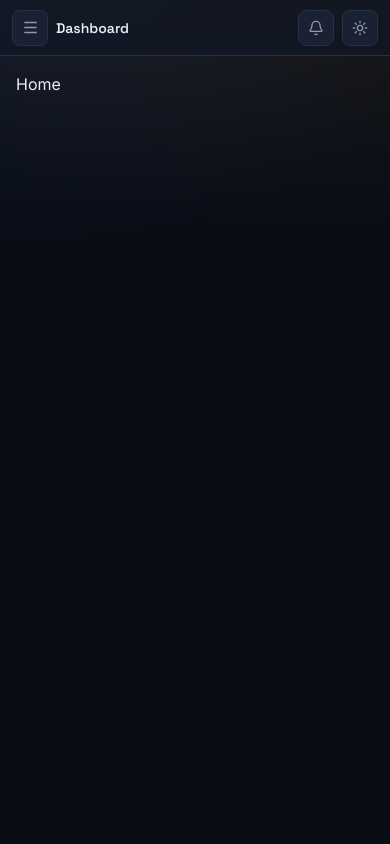
Test: mobile menu › closes after choosing a page and shows that page
The image size is (390, 844).
Click the button named "Open menu".
click(30, 28)  # box [12, 10, 48, 46]
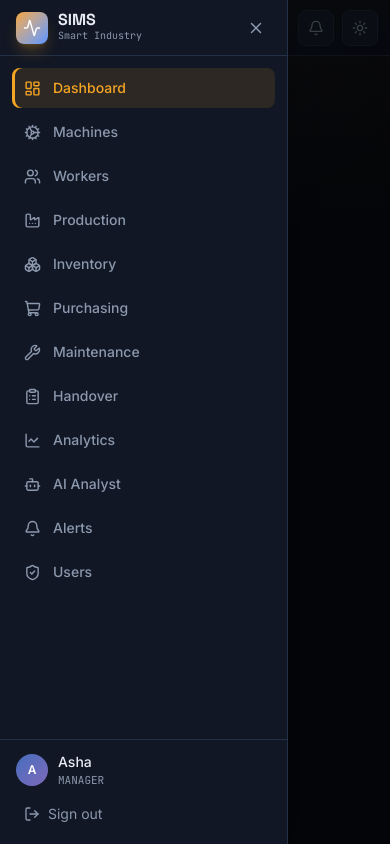
Click the link "Machines".
click(71, 132)  # box [24, 123, 118, 140]
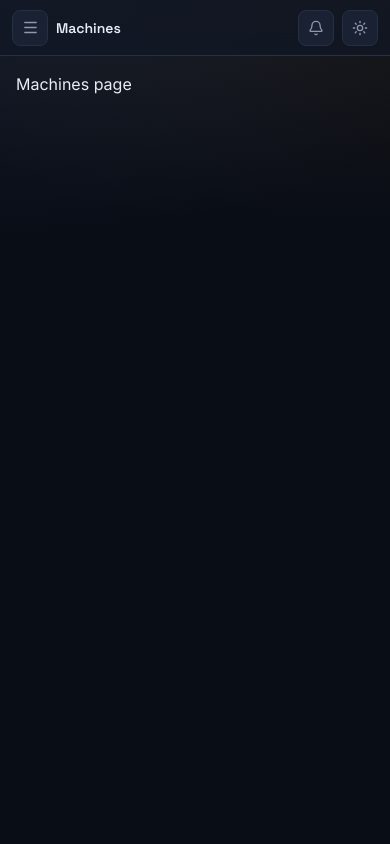
Expected: the text "Machines page" is shown, [16, 74, 132, 94]
Expected: the dialog "Navigation" is gone
